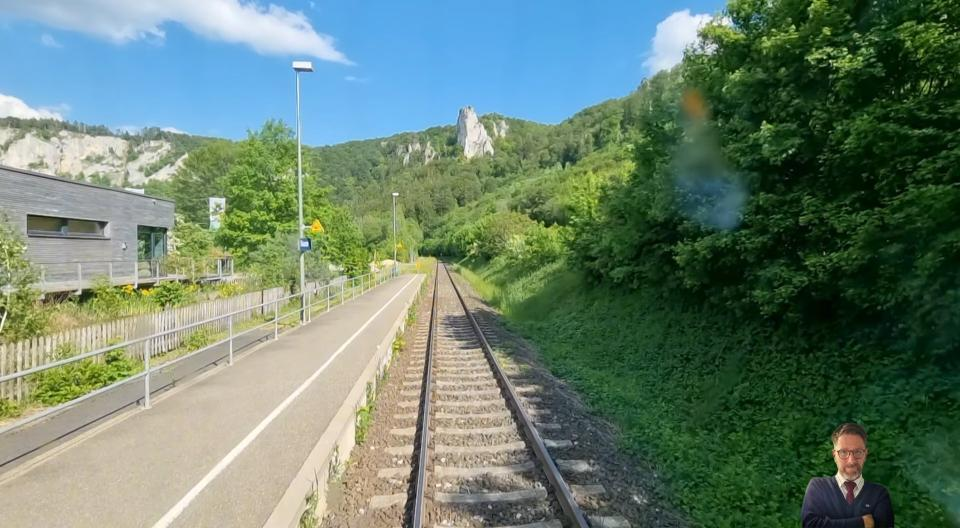Plant: (295, 467, 322, 528), (493, 341, 537, 375), (355, 384, 376, 443), (374, 357, 390, 400), (415, 272, 432, 306), (406, 301, 416, 327), (393, 332, 405, 352)
